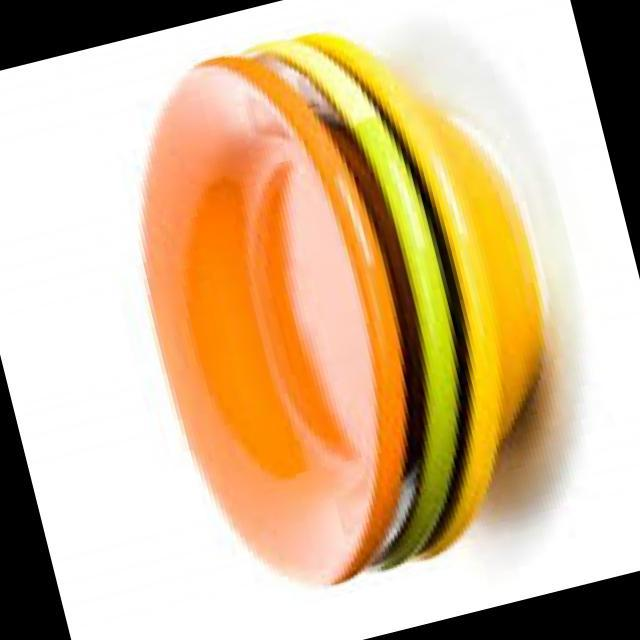plate: (53, 0, 634, 638)
